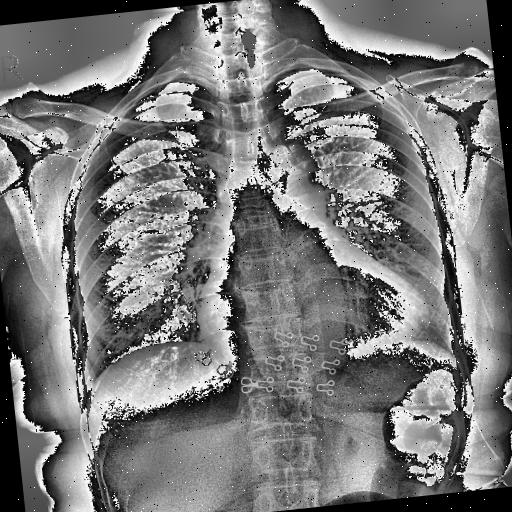0- Aortic enlargement: (256, 142, 328, 228), (254, 140, 326, 210), (261, 141, 325, 217)
3- Cardiomegaly: (189, 254, 433, 364), (195, 266, 431, 366), (192, 270, 432, 368)
